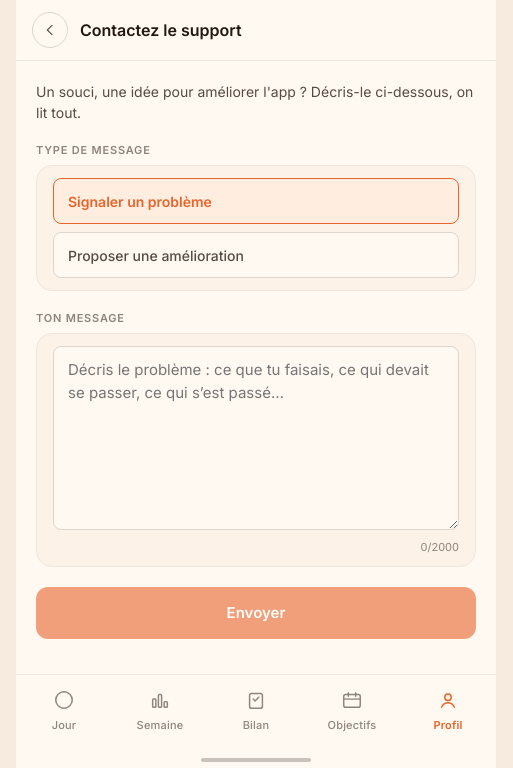
Test: SupportPage — contact du support › affiche l'écran de confirmation après un envoi réussi
The image size is (513, 768).
Type "Un message" into the text box at (256, 438), box x1=53 y1=346 x2=459 y2=530
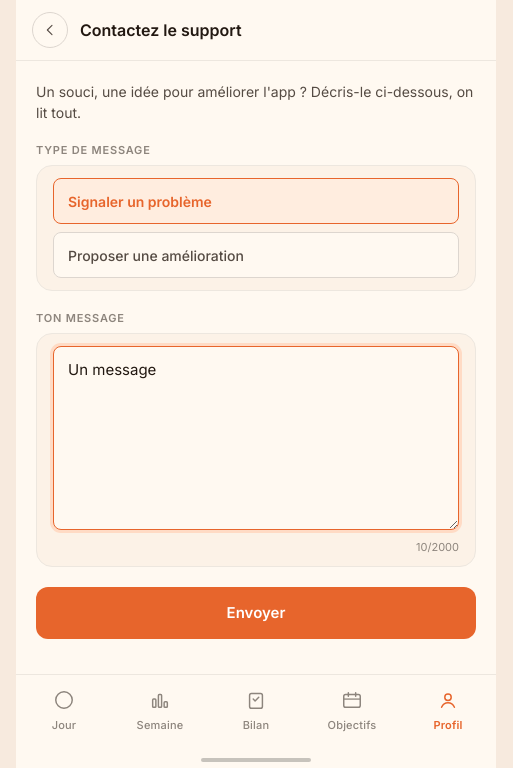
Click the button "Envoyer" at (256, 612), box x1=36 y1=586 x2=476 y2=638
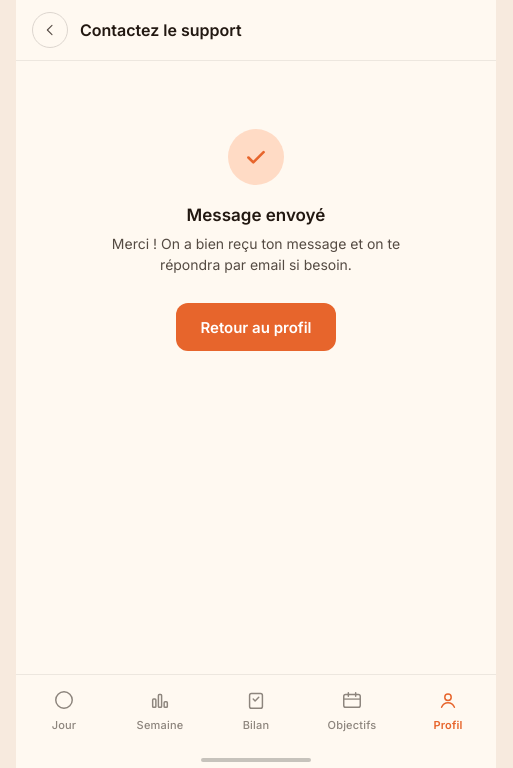
Result: the text "Message envoyé" is shown at x1=187 y1=205 x2=325 y2=225
